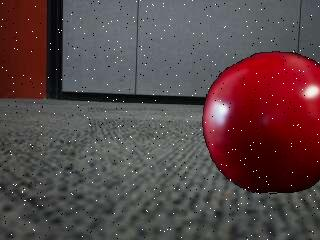Tomato: (201, 52, 320, 196)
